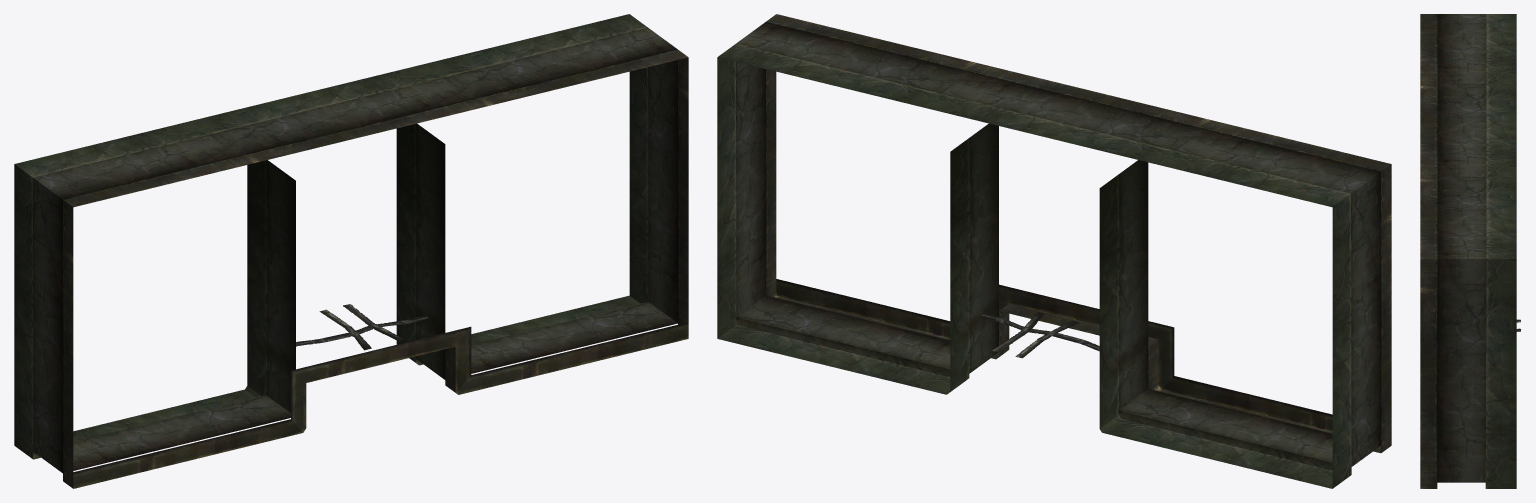
Rendered from juqing_fuben_285_taizi_01.obj.
The picture shows the model from 3 angles, left to right: view 1: azimuth 30°, elevation 25°; view 2: azimuth 150°, elevation 25°; view 3: azimuth 270°, elevation 25°; orthographic projection. The views are drawn at different scales.
Visible parts, largest first — view 1: juqing_fuben_285_taizi_01; view 2: juqing_fuben_285_taizi_01; view 3: juqing_fuben_285_taizi_01.
Boxes of the visible parts, x1,y1,x2,y2 form: juqing_fuben_285_taizi_01: (14,14,688,488); juqing_fuben_285_taizi_01: (717,14,1391,488); juqing_fuben_285_taizi_01: (1420,14,1520,488).
Bounding box in the file's own units: 384 × 168 × 67.15.
Materials: 2 (2 with a texture image).
